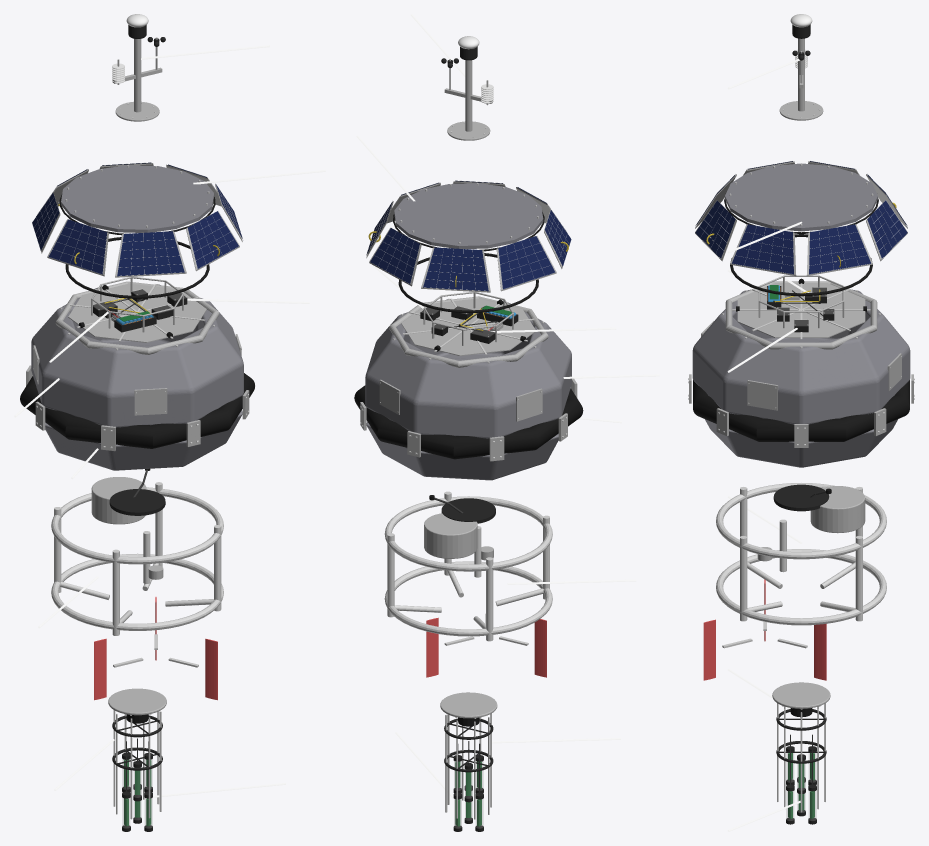
File: samudrax-exploded-v8.glb
The picture shows the model from 3 angles, left to right: view 1: azimuth 30°, elevation 25°; view 2: azimuth 150°, elevation 25°; view 3: azimuth 270°, elevation 25°; orthographic projection. The views are drawn at different scales.
Parts seen in each view (by area): view 1: Main_Hull, Cylinder.016, Torus, Cylinder.017, Solar_Panel_Cells_06, Torus.009, Torus.010, Solar_Panel_Cells_05, Torus.001, Solar_Panel_Cells_07, Turbine_Generator, Cylinder.170 (+10 smaller); view 2: Main_Hull, Cylinder.016, Torus, Cylinder.017, Torus.009, Solar_Panel_Cells_03, Torus.010, Turbine_Generator, Solar_Panel_Cells_04, Torus.001, Solar_Panel_Cells_02, Cylinder.170 (+10 smaller); view 3: Main_Hull, Cylinder.016, Torus, Cylinder.017, Torus.009, Torus.010, Solar_Panel_Cells_01, Solar_Panel_Cells_08, Turbine_Generator, Torus.001, Cylinder.170, Solar_Panel_Cells_02 (+10 smaller).
Boxes of the visible parts, x1,y1,x2,y2 form: Main_Hull: [31, 284, 243, 470]; Cylinder.016: [61, 165, 214, 232]; Torus: [20, 373, 254, 448]; Cylinder.017: [68, 283, 206, 342]; Solar_Panel_Cells_06: [117, 231, 184, 276]; Torus.009: [51, 487, 223, 564]; Torus.010: [51, 553, 223, 630]; Solar_Panel_Cells_05: [48, 219, 107, 274]; Torus.001: [55, 281, 219, 354]; Solar_Panel_Cells_07: [187, 211, 238, 268]; Turbine_Generator: [91, 477, 146, 524]; Cylinder.170: [108, 688, 166, 715]; Main_Hull: [365, 299, 571, 480]; Cylinder.016: [394, 183, 543, 248]; Torus: [354, 385, 583, 459]; Cylinder.017: [401, 298, 535, 355]; Torus.009: [384, 496, 552, 571]; Solar_Panel_Cells_03: [423, 247, 488, 291]; Torus.010: [384, 561, 552, 636]; Turbine_Generator: [424, 513, 477, 558]; Solar_Panel_Cells_04: [498, 236, 555, 289]; Torus.001: [389, 296, 548, 367]; Solar_Panel_Cells_02: [370, 228, 419, 283]; Cylinder.170: [440, 692, 497, 718]; Main_Hull: [692, 289, 910, 467]; Cylinder.016: [725, 163, 877, 231]; Torus: [693, 380, 909, 441]; Cylinder.017: [737, 283, 865, 337]; Torus.009: [716, 483, 886, 559]; Torus.010: [716, 549, 886, 625]; Solar_Panel_Cells_01: [809, 224, 870, 274]; Solar_Panel_Cells_08: [732, 224, 793, 274]; Turbine_Generator: [810, 486, 865, 533]; Torus.001: [725, 281, 877, 349]; Cylinder.170: [772, 682, 830, 708]; Solar_Panel_Cells_02: [867, 200, 907, 258].
Size of the model in its own units: 1.96 by 4.87 by 1.24.
